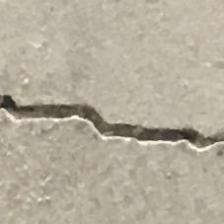Crack: (0, 70, 224, 174)
